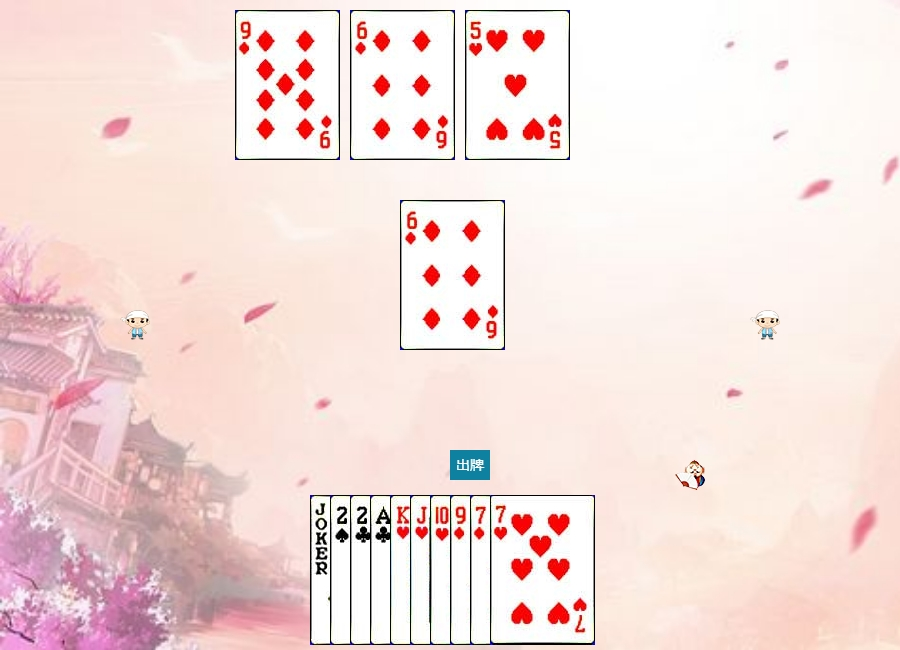10~3: (430, 495, 535, 645)
11~3: (410, 495, 515, 645)
13~3: (390, 495, 495, 645)
14~2: (370, 495, 475, 645)
15~2: (350, 495, 455, 645)
15~4: (330, 495, 435, 645)
17~3: (310, 495, 415, 645)
5~3: (465, 10, 570, 160)
6~1: (350, 10, 455, 160), (400, 200, 505, 350)
7~1: (470, 495, 575, 645)
7~3: (490, 495, 595, 645)
9~1: (235, 10, 340, 160), (450, 495, 555, 645)
